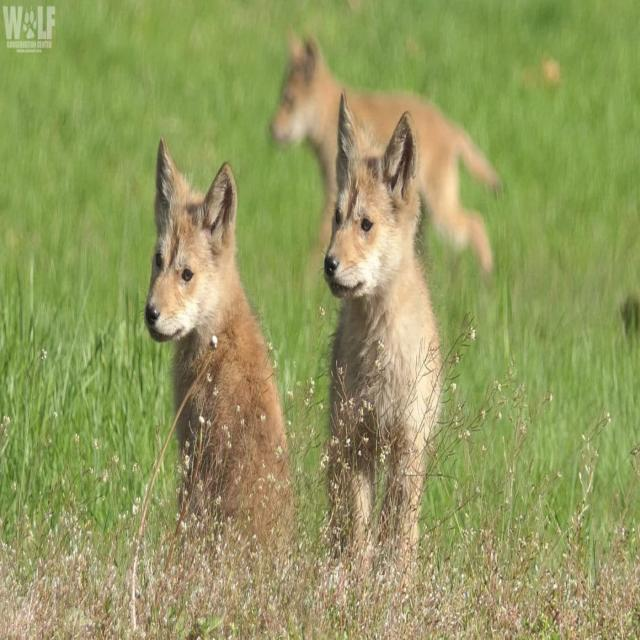Coyote: (136, 124, 292, 507), (317, 68, 438, 554), (264, 21, 506, 264)
